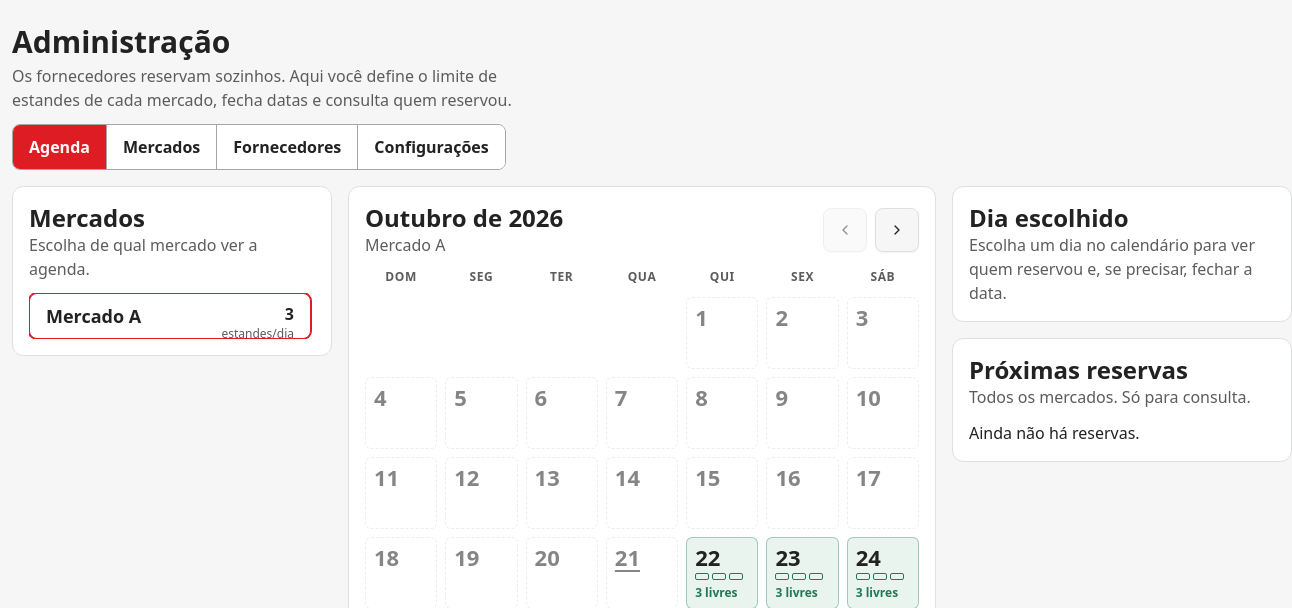
Test: aba Fornecedores › gera um novo link para quem perdeu o acesso
The width and height of the screenshot is (1292, 608).
Click the button "Fornecedores": (287, 147) x1=216 y1=125 x2=357 y2=169
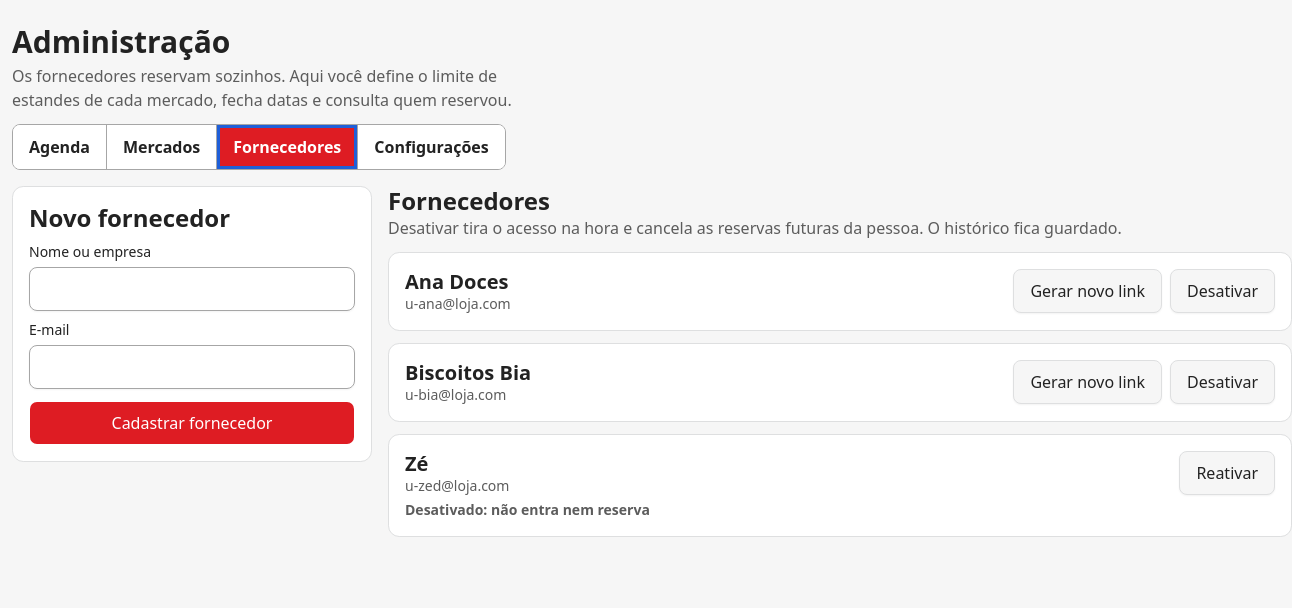
Click the button with aria-label "Gerar novo link de Ana Doces": (1088, 291) x1=1013 y1=269 x2=1162 y2=313
(page scrolled)
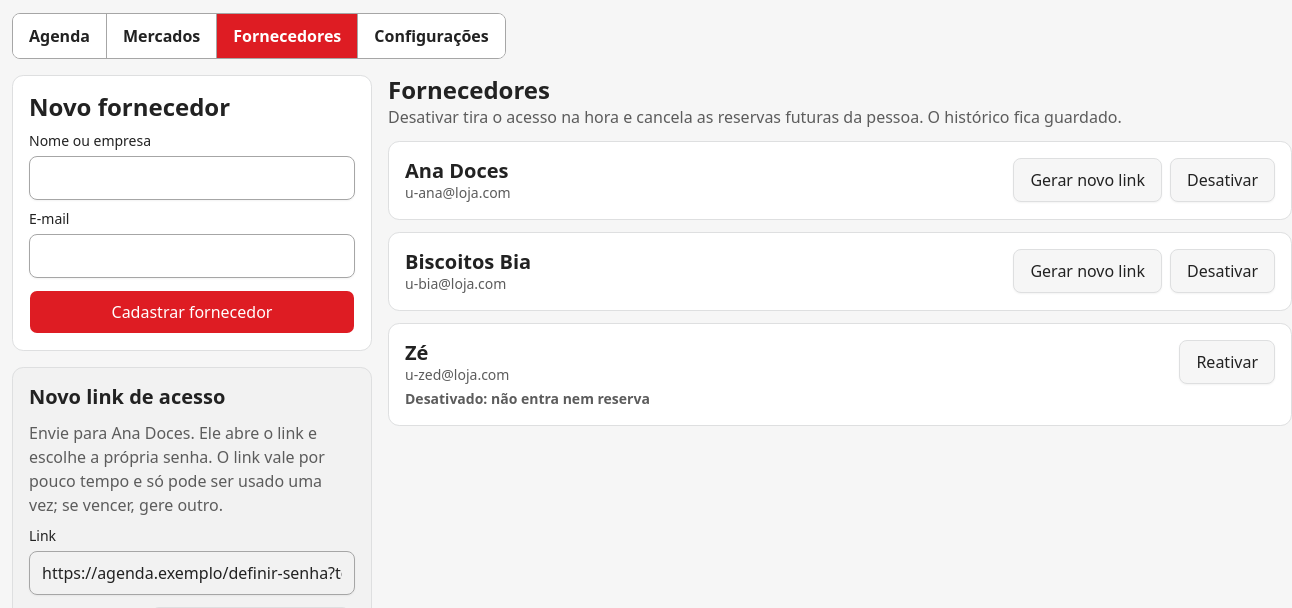
Expected: the element "Novo link de acesso" shows "Ana Doces", x1=29 y1=422 x2=325 y2=516
